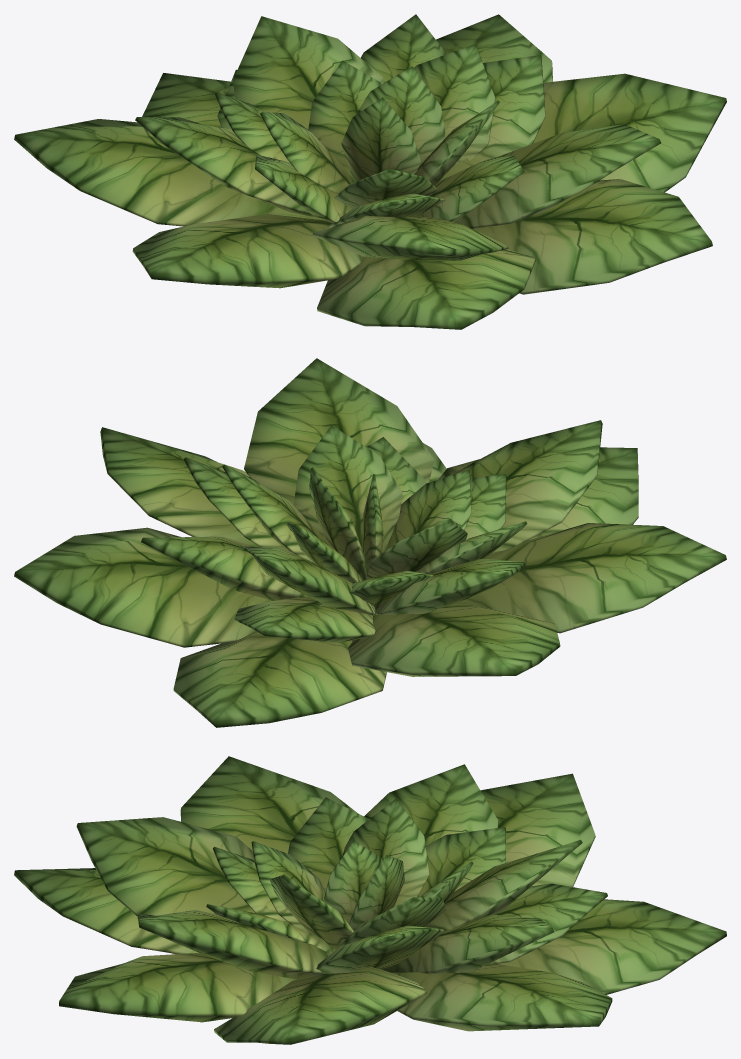
The picture shows the model from 3 angles, top to bottom: view 1: azimuth 30°, elevation 25°; view 2: azimuth 150°, elevation 25°; view 3: azimuth 270°, elevation 25°; orthographic projection. The views are drawn at different scales.
Visible parts, largest first — view 1: Leaf_.001, Leaf_.004, Leaf_.005, Leaf_.002, Leaf_.024, Leaf_.011, Leaf_.013, Leaf_.010, Leaf_.009, Leaf_.008, Leaf_.023, Leaf_.018 (+12 smaller); view 2: Leaf_.006, Leaf_.005, Leaf_.003, Leaf_.011, Leaf_.004, Leaf_.010, Leaf_.024, Leaf_.016, Leaf_.007, Leaf_, Leaf_.002, Leaf_.009 (+12 smaller); view 3: Leaf_.010, Leaf_.003, Leaf_.001, Leaf_.006, Leaf_.024, Leaf_.005, Leaf_.004, Leaf_.011, Leaf_.002, Leaf_.007, Leaf_.009, Leaf_.013 (+13 smaller).
Part boxes in pixels (box(x1,y1,x2,y2)): Leaf_.001: box(473, 179, 712, 294); Leaf_.004: box(14, 119, 324, 226); Leaf_.005: box(132, 214, 362, 288); Leaf_.002: box(317, 249, 535, 329); Leaf_.024: box(533, 73, 726, 192); Leaf_.011: box(453, 124, 661, 228); Leaf_.013: box(233, 16, 383, 129); Leaf_.010: box(312, 215, 508, 261); Leaf_.009: box(135, 117, 318, 217); Leaf_.008: box(438, 55, 545, 181); Leaf_.023: box(414, 44, 495, 174); Leaf_.018: box(341, 97, 421, 181); Leaf_.006: box(14, 527, 272, 647); Leaf_.005: box(459, 523, 726, 633); Leaf_.003: box(173, 631, 386, 727); Leaf_.011: box(244, 358, 434, 505); Leaf_.004: box(348, 601, 560, 676); Leaf_.010: box(447, 420, 602, 555); Leaf_.024: box(100, 427, 259, 546); Leaf_.016: box(293, 425, 402, 552); Leaf_.007: box(141, 536, 308, 600); Leaf_: box(234, 597, 375, 642); Leaf_.002: box(438, 447, 638, 539); Leaf_.009: box(370, 558, 525, 615); Leaf_.010: box(76, 817, 254, 936); Leaf_.003: box(497, 899, 726, 994); Leaf_.001: box(59, 953, 297, 1022); Leaf_.006: box(391, 963, 612, 1031); Leaf_.024: box(214, 966, 426, 1044); Leaf_.005: box(180, 756, 356, 853); Leaf_.004: box(480, 773, 595, 886); Leaf_.011: box(137, 909, 330, 979); Leaf_.002: box(14, 868, 198, 954); Leaf_.007: box(382, 914, 554, 973); Leaf_.009: box(364, 764, 498, 845); Leaf_.013: box(425, 839, 582, 930).
Size of the model in its own units: 0.2306 by 0.0553 by 0.2396.
